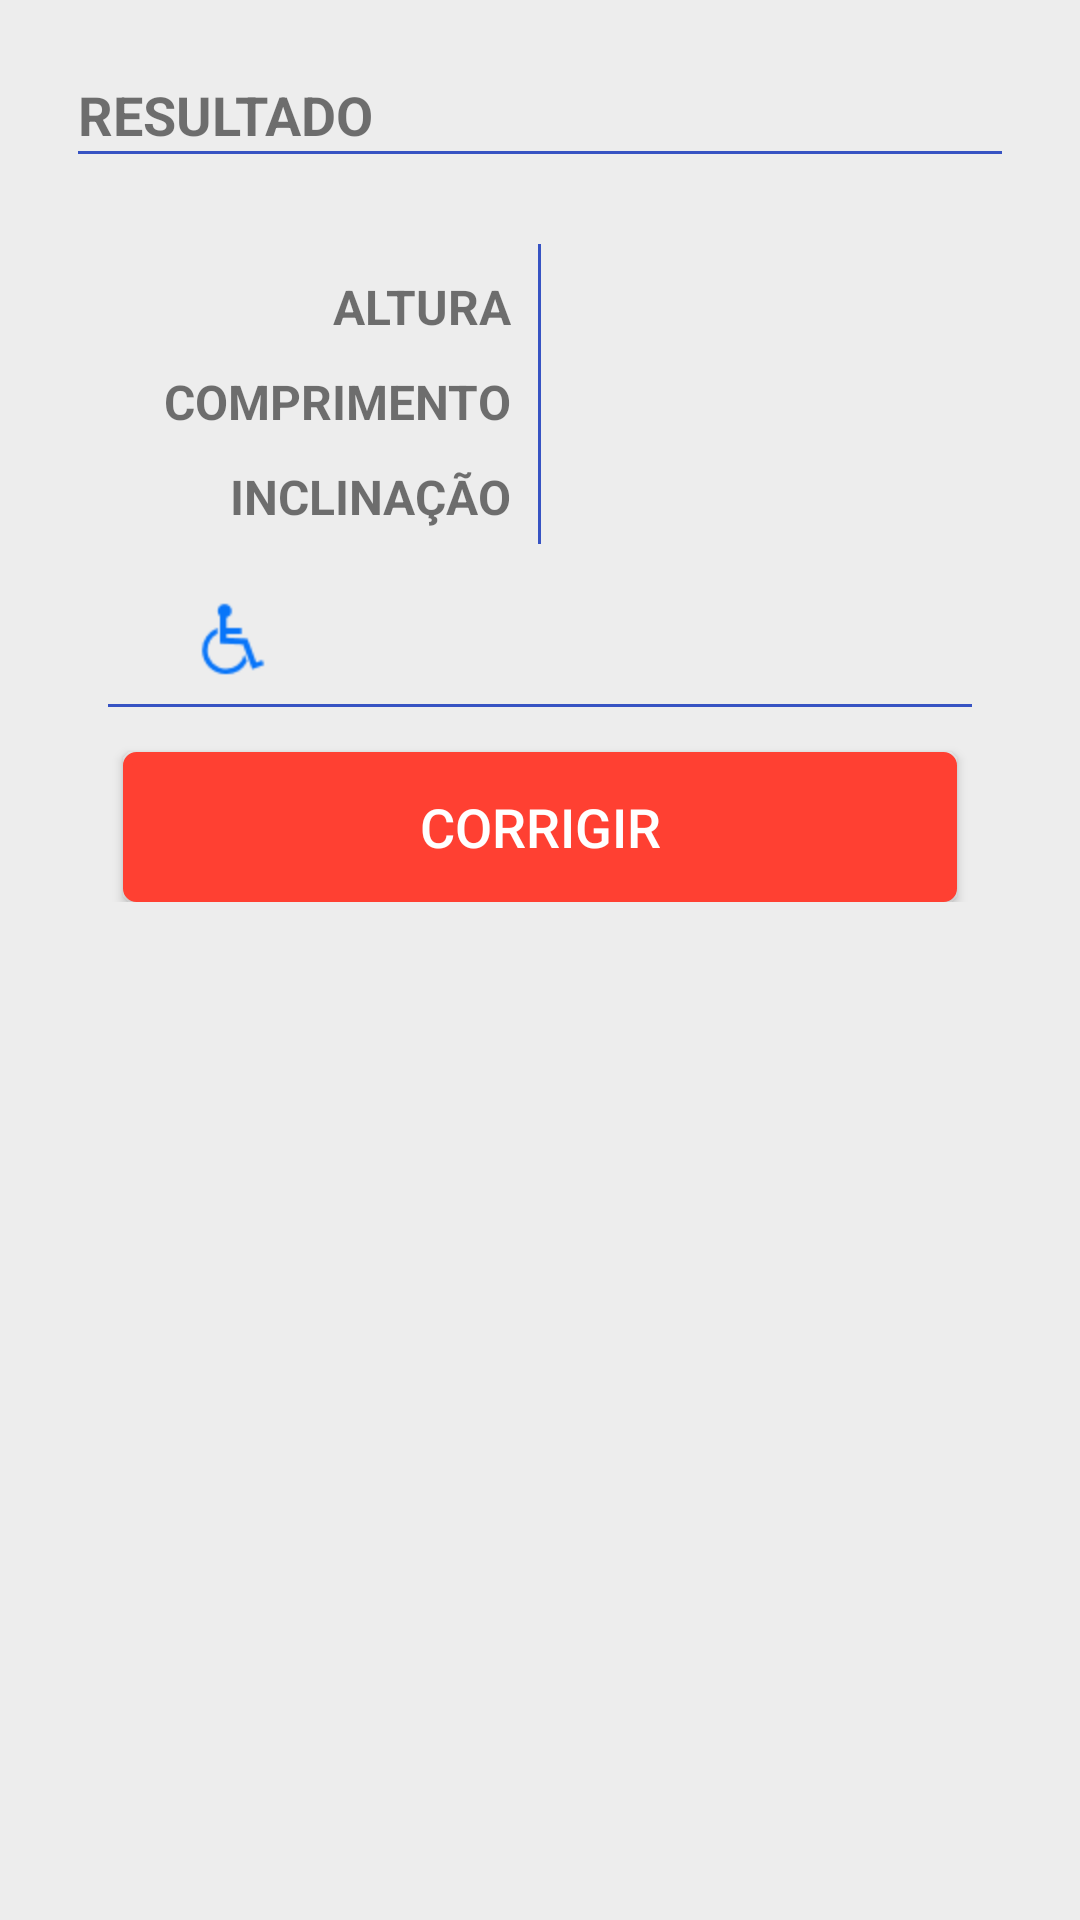

Where to tap for icons on this 1080w x 1920h app screen, as point (x, y):
Ramp image: point (233, 639)
